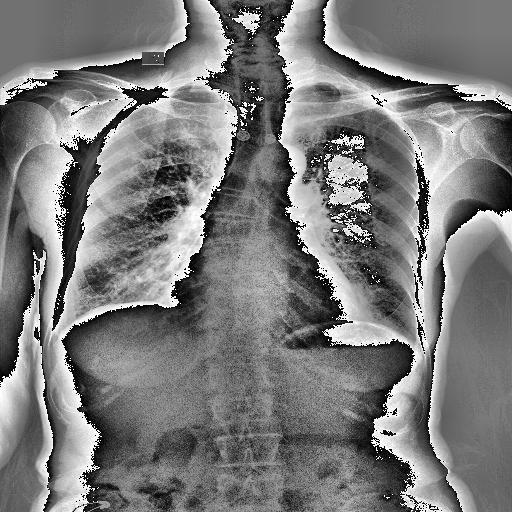0- Aortic enlargement: (244, 142, 306, 180), (256, 142, 308, 184)
11- Pleural thickening: (290, 79, 354, 90)
3- Cardiomegaly: (168, 272, 359, 330), (164, 272, 364, 326), (164, 277, 366, 328)
9- Other lesion: (6, 240, 56, 406)
